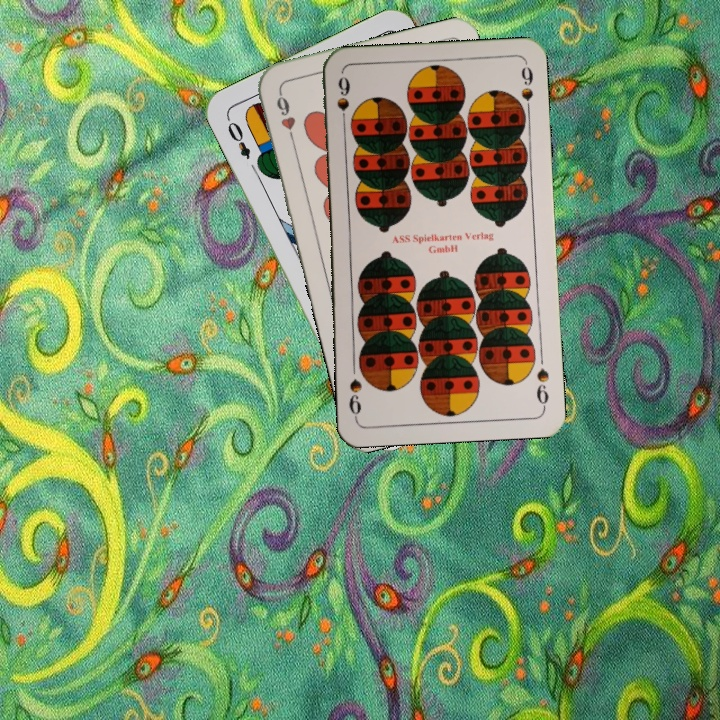EO: (222, 113, 253, 162)
H9: (272, 87, 298, 145)
S9: (333, 72, 353, 131), (533, 364, 551, 411)
